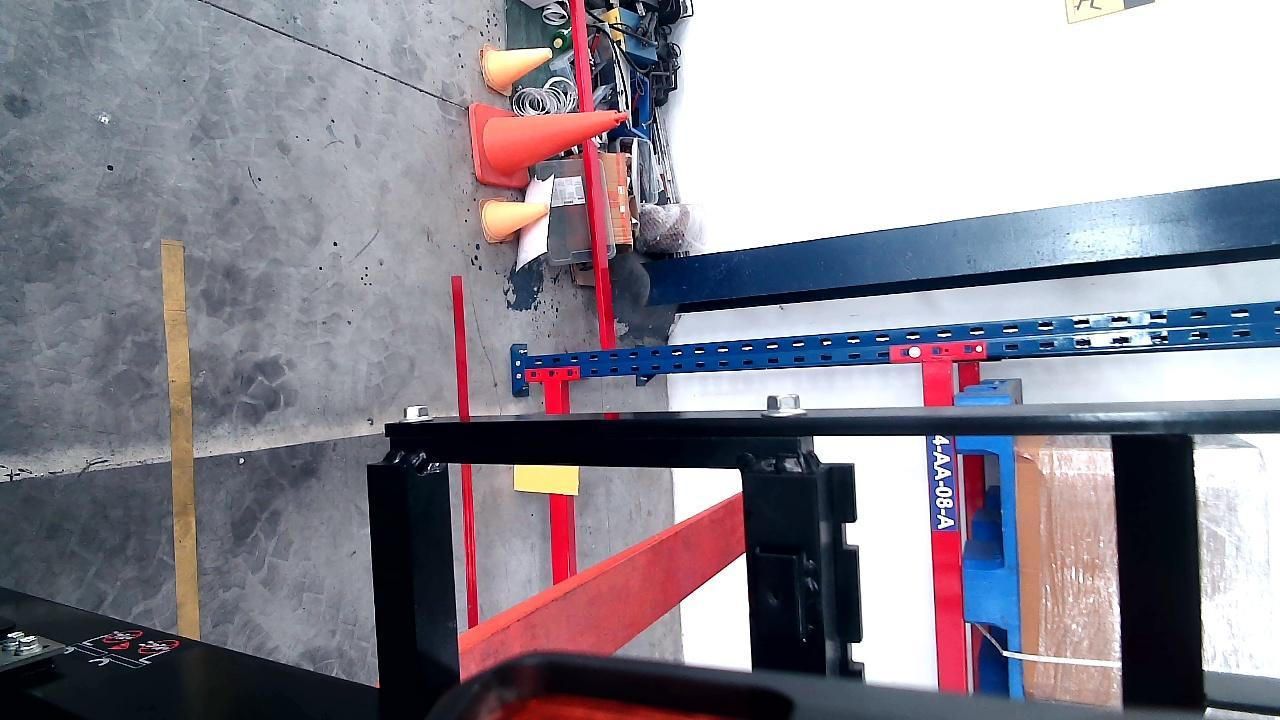red_line: (447, 278, 479, 624)
yellow_line: (163, 238, 199, 641)
